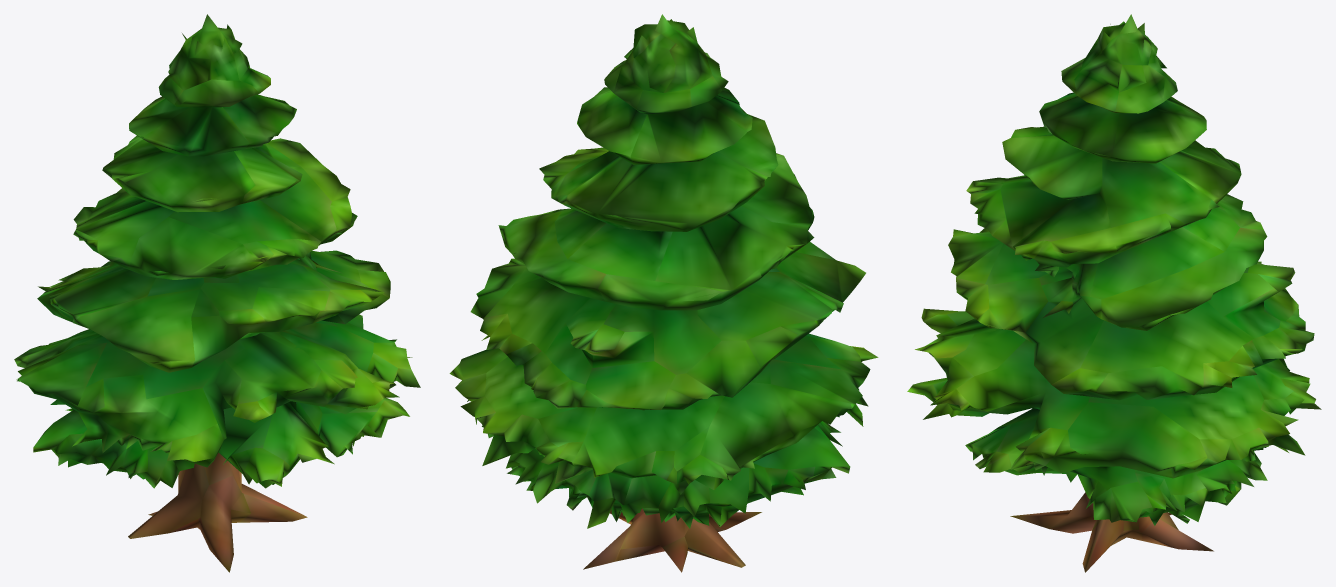
Rendered from pine.glb.
The picture shows the model from 3 angles, left to right: view 1: azimuth 30°, elevation 25°; view 2: azimuth 150°, elevation 25°; view 3: azimuth 270°, elevation 25°; orthographic projection. The views are drawn at different scales.
Visible parts, largest first — view 1: tripo_node_826cf9af-df21-4938-86aa-7a4d07ea4004; view 2: tripo_node_826cf9af-df21-4938-86aa-7a4d07ea4004; view 3: tripo_node_826cf9af-df21-4938-86aa-7a4d07ea4004.
Part boxes in pixels (box(x1,y1,x2,y2)): tripo_node_826cf9af-df21-4938-86aa-7a4d07ea4004: box(14, 14, 420, 572); tripo_node_826cf9af-df21-4938-86aa-7a4d07ea4004: box(449, 14, 878, 572); tripo_node_826cf9af-df21-4938-86aa-7a4d07ea4004: box(907, 14, 1321, 572).
Bounding box in the file's own units: 0.7609 × 1 × 0.7158.
1 material, 1 textured.
